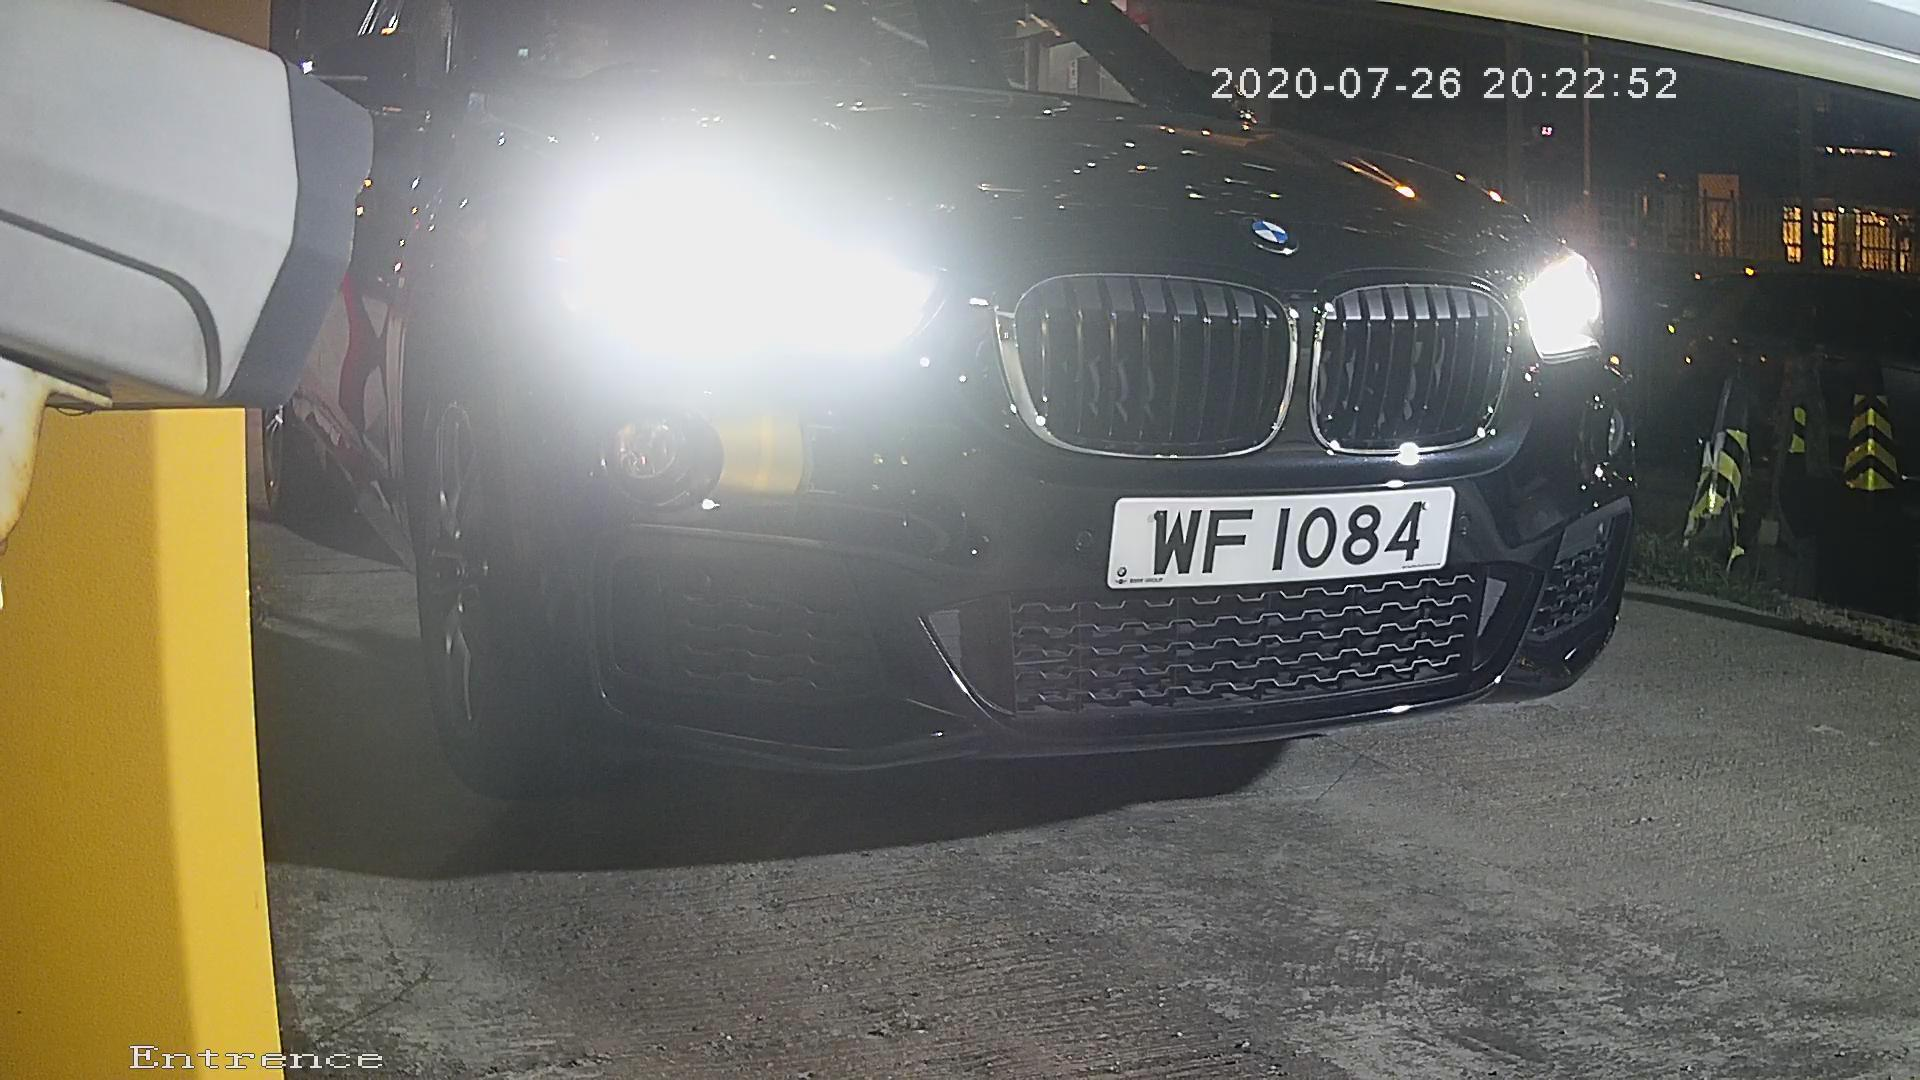Car: (129, 49, 1689, 825)
License Plate: (1089, 463, 1458, 603)
